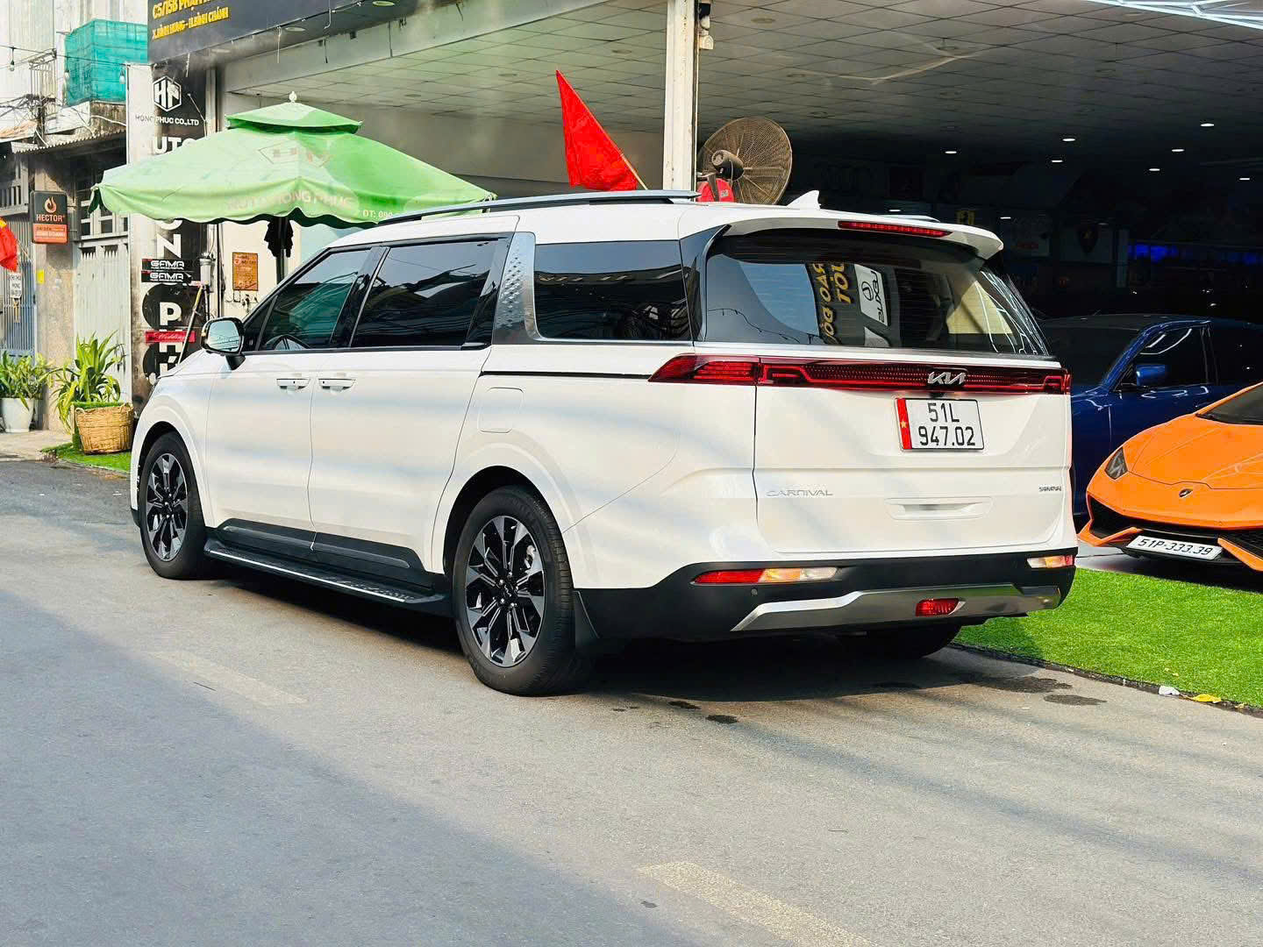Bien-so: (900, 398, 984, 450)
